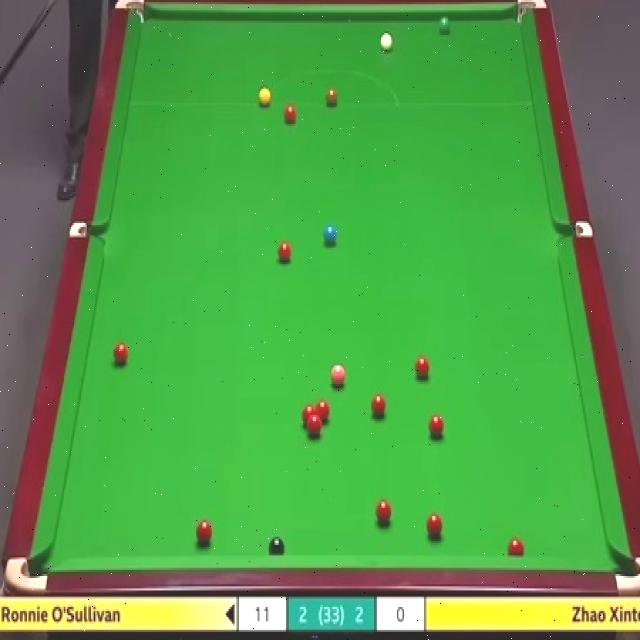black-ball: (268, 533, 286, 557)
blue-ball: (323, 223, 337, 247)
brown-ball: (324, 85, 338, 108)
green-ball: (437, 17, 452, 36)
pink-ball: (331, 360, 346, 387)
red-ball: (413, 354, 431, 384), (112, 341, 130, 368), (375, 498, 392, 526), (426, 513, 442, 540), (282, 101, 298, 128), (370, 393, 386, 419), (428, 411, 443, 438), (316, 400, 331, 426), (197, 518, 212, 544), (277, 240, 293, 264), (508, 536, 525, 557), (302, 404, 316, 426), (308, 417, 321, 438)
white-ball: (378, 32, 395, 54)
yellow-ball: (258, 86, 272, 106)
